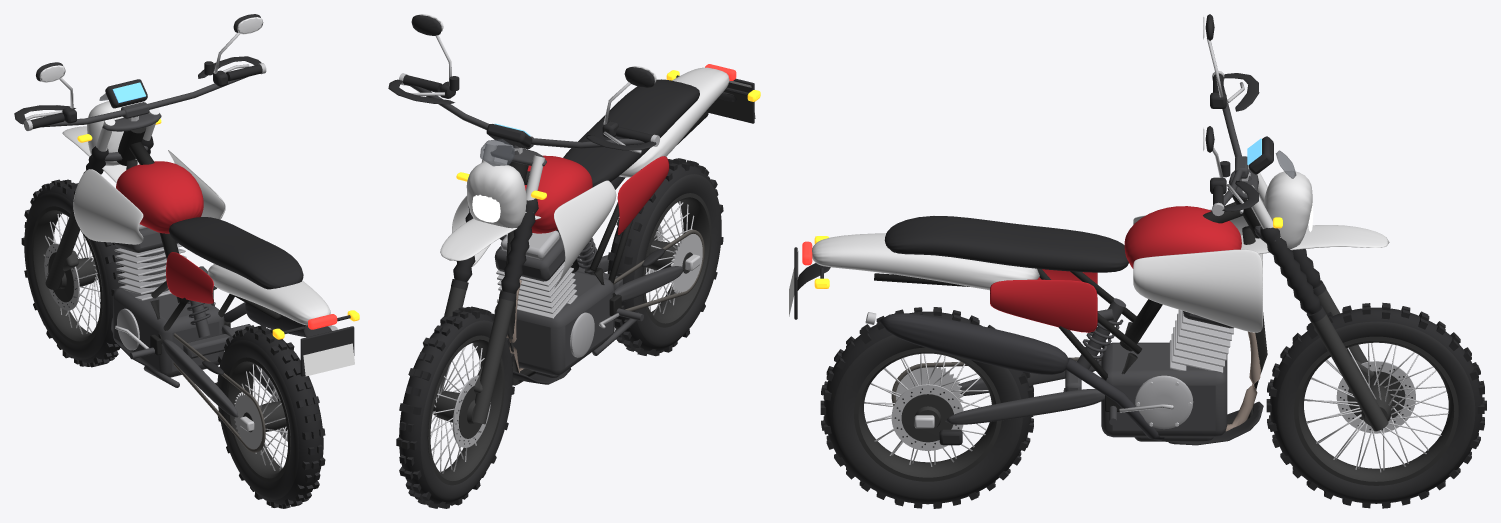
Rendered from bros160.glb.
3 views of the same model, side by side, from view 1: azimuth 30°, elevation 25°; view 2: azimuth 150°, elevation 25°; view 3: azimuth 270°, elevation 25° (orthographic). The views are drawn at different scales.
Visible parts, largest first — view 1: body, wheel_rear, wheel_front, steer, swingarm, fork_lower; view 2: body, wheel_front, steer, wheel_rear, fork_lower, swingarm; view 3: body, wheel_front, wheel_rear, steer, swingarm, fork_lower.
Boxes of the visible parts, <box> form: body: <box>73,127,359,387</box>; wheel_rear: <box>215,325,325,508</box>; wheel_front: <box>21,179,125,367</box>; steer: <box>14,14,266,182</box>; swingarm: <box>162,325,273,452</box>; fork_lower: <box>45,206,80,289</box>; body: <box>452,64,760,385</box>; wheel_front: <box>396,306,514,508</box>; steer: <box>388,14,659,293</box>; wheel_rear: <box>607,158,723,356</box>; fork_lower: <box>438,279,516,424</box>; swingarm: <box>577,229,704,311</box>; body: <box>789,188,1267,445</box>; wheel_front: <box>1266,302,1486,508</box>; wheel_rear: <box>820,307,1033,508</box>; steer: <box>1203,14,1389,314</box>; swingarm: <box>891,357,1104,445</box>; fork_lower: <box>1306,280,1388,431</box>.
Bounding box in the file's own units: 0.9844 × 1.44 × 2.11.
